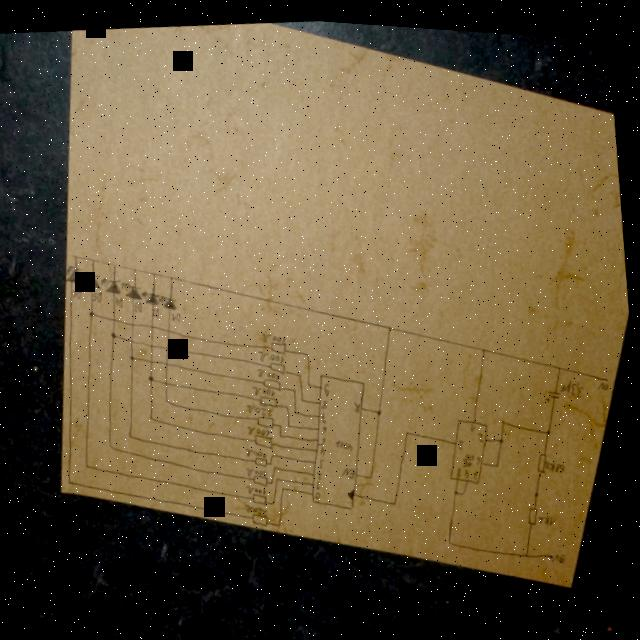capacitor: (546, 381, 563, 396)
crossover: (164, 377, 171, 386), (151, 320, 156, 328), (150, 339, 155, 347), (166, 357, 171, 365), (166, 342, 171, 349), (131, 336, 136, 343), (151, 356, 156, 363), (132, 319, 137, 325), (113, 315, 118, 321), (167, 325, 172, 331)
diode: (122, 277, 144, 299), (101, 273, 123, 294), (66, 261, 85, 284), (82, 269, 102, 290), (141, 285, 162, 304), (159, 290, 179, 309)
junction: (148, 371, 157, 382), (377, 401, 384, 411), (499, 430, 507, 438), (393, 493, 401, 501), (149, 410, 157, 418), (111, 329, 118, 338), (297, 366, 304, 375), (130, 352, 137, 360), (73, 251, 80, 259), (546, 420, 553, 428), (129, 428, 136, 436), (278, 517, 285, 525), (109, 440, 116, 447), (272, 495, 279, 502), (112, 260, 119, 266), (133, 264, 139, 271), (388, 319, 394, 325), (370, 467, 376, 473), (166, 394, 172, 400), (274, 461, 280, 467), (279, 420, 285, 426), (288, 419, 294, 425), (286, 399, 292, 405), (307, 377, 313, 383), (90, 309, 95, 316), (502, 411, 507, 418), (462, 483, 467, 490), (301, 392, 306, 399), (307, 347, 312, 354), (92, 255, 97, 261), (152, 269, 157, 275), (170, 272, 175, 278), (482, 340, 487, 346), (558, 356, 563, 362), (455, 482, 460, 488), (407, 424, 412, 430), (450, 531, 455, 537), (86, 461, 91, 467), (69, 478, 74, 484), (526, 544, 531, 550), (277, 473, 282, 479), (271, 475, 276, 481), (270, 456, 275, 462), (280, 429, 285, 435), (294, 405, 299, 411), (293, 383, 298, 389), (284, 482, 288, 487), (497, 456, 501, 460), (273, 449, 276, 454)
resistor: (255, 427, 276, 448), (264, 372, 286, 389), (260, 389, 281, 406), (257, 409, 277, 426), (270, 356, 289, 373), (528, 498, 543, 519), (254, 508, 272, 525), (272, 335, 289, 352), (538, 443, 550, 467), (254, 488, 270, 504), (255, 450, 271, 465), (255, 469, 271, 484)
terminal: (550, 544, 557, 552), (606, 368, 611, 374)
text: (561, 369, 586, 392), (248, 397, 275, 416), (259, 343, 286, 361), (262, 325, 289, 341), (246, 497, 270, 514), (258, 362, 283, 378), (253, 380, 278, 395), (248, 420, 274, 434), (246, 441, 270, 456), (546, 450, 567, 467), (247, 479, 269, 493), (337, 432, 355, 449), (247, 461, 270, 474), (463, 444, 478, 462), (540, 506, 559, 520), (343, 461, 358, 475), (554, 544, 569, 556), (92, 288, 104, 302), (73, 286, 84, 299), (172, 307, 183, 320), (115, 293, 125, 307), (152, 303, 162, 316), (598, 372, 611, 382), (135, 298, 144, 312), (325, 376, 332, 392), (355, 395, 363, 408), (459, 431, 467, 443), (321, 440, 328, 453), (322, 406, 329, 419), (320, 431, 329, 441), (322, 394, 330, 405), (476, 448, 484, 459), (478, 424, 486, 435), (471, 414, 478, 426), (465, 461, 472, 473), (474, 461, 481, 473), (321, 420, 330, 429), (320, 453, 327, 464), (458, 460, 465, 471), (318, 466, 325, 476), (316, 486, 323, 495), (318, 475, 323, 485)
